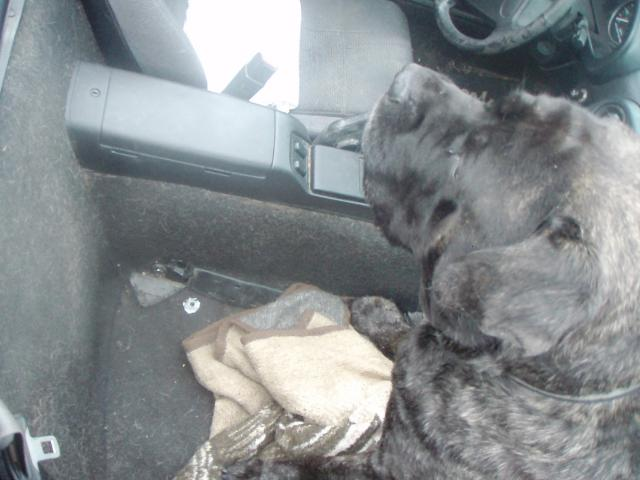Seatbelt: (1, 401, 62, 479)
